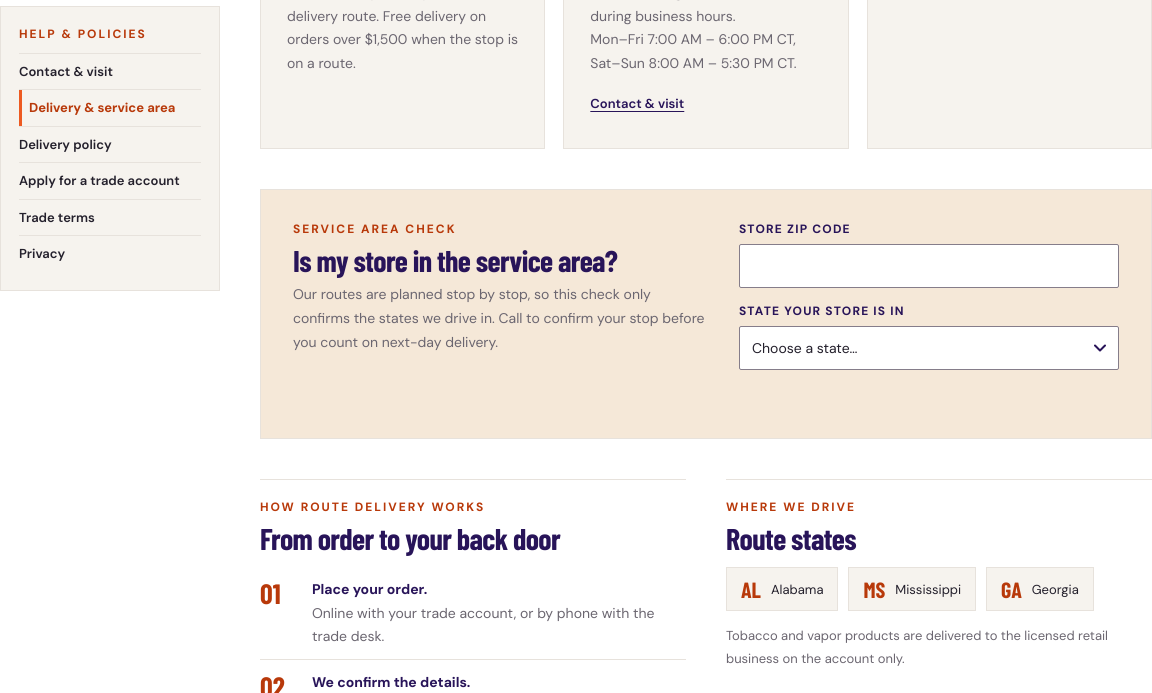
DeliveryPage out-of-area answer › answers XX with the state, the route sentence, the phone and the contact page
(page scrolled)
Select "Another state" in the dropdown labelled "State your store is in" at (929, 348), box [739,326,1119,370]
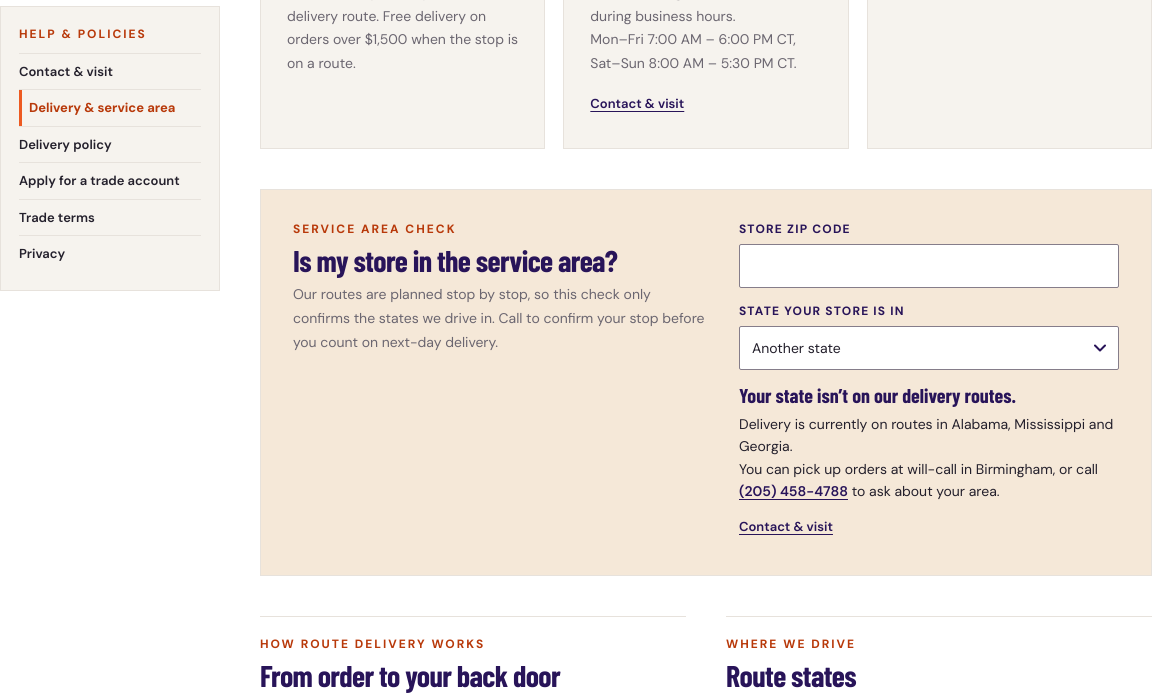
Check: the text "Your state isn’t on our delivery routes." is shown, box [739,383,1016,407]
Check: the text "Delivery is currently on routes in Alabama, Mississippi and Georgia." is shown, box [739,413,1119,458]
